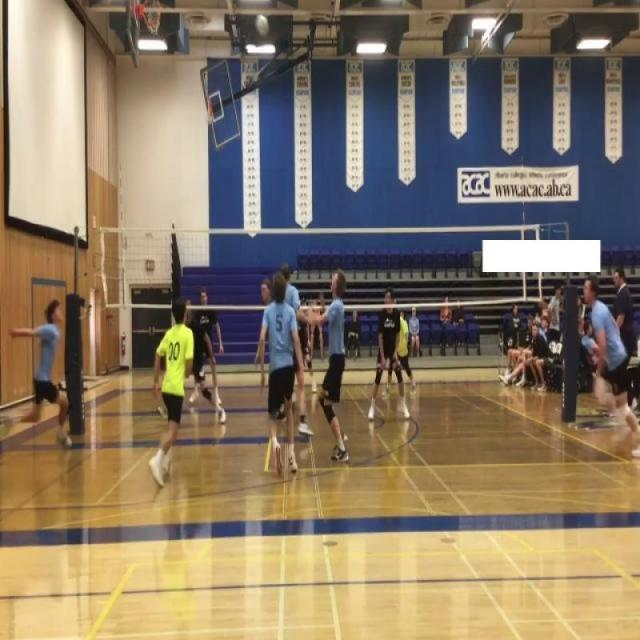volleyball: (253, 12, 270, 38)
